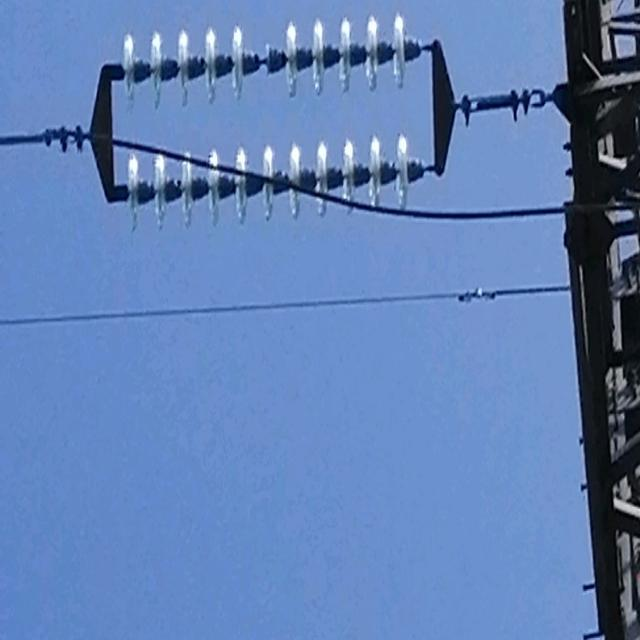杆塔: (549, 0, 640, 640)
正常电缆: (0, 272, 573, 341)
正常绝缘子: (108, 138, 429, 231), (103, 10, 418, 101)
绝缘子破损: (249, 40, 275, 80)
